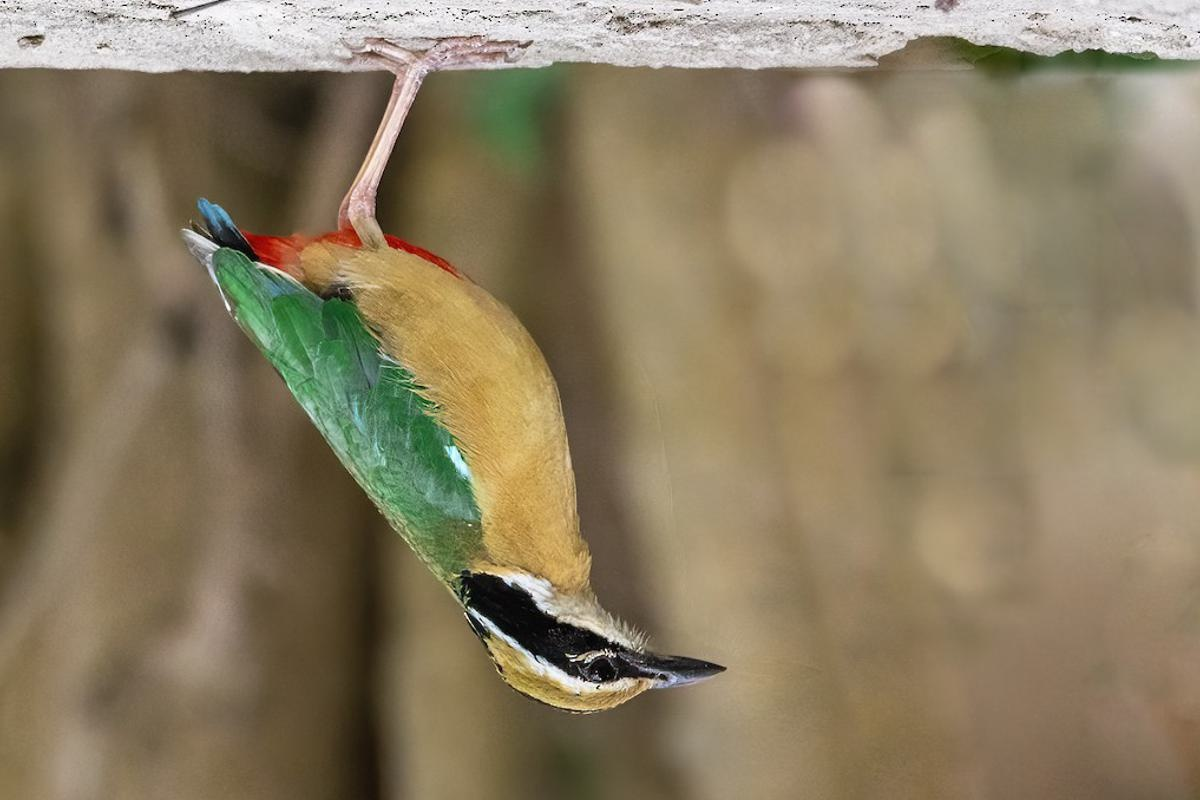pitta: (188, 127, 761, 746)
